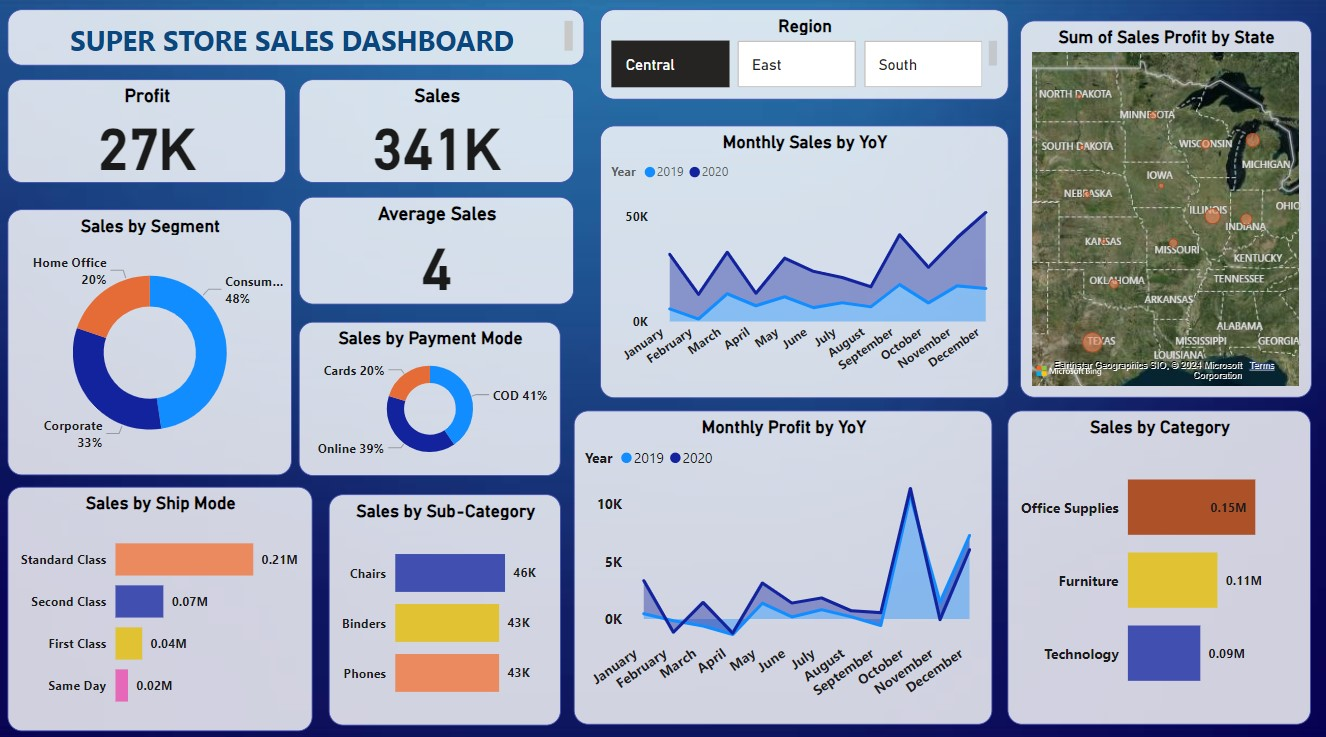

The dashboard page shown, as its layout file describes it:
{"tool":"powerbi","page":{"name":"Page 1","canvas":[1280,720],"ordinal":0},"visuals":[{"type":"clusteredBarChart","title":"Sales by Category","fields":{"Category":["Sheet1.Category"],"Y":["Sum(Sheet1.Sales)"]},"box":[972.9,398.6,292.9,302.9],"z":0},{"type":"clusteredBarChart","title":"Sales by Sub-Category","fields":{"Category":["Sheet1.Sub-Category"],"Y":["Sum(Sheet1.Sales)"]},"box":[317.1,478.6,224.3,222.9],"z":1000},{"type":"clusteredBarChart","title":"Sales by Ship Mode","fields":{"Y":["Sum(Sheet1.Sales)"],"Category":["Sheet1.Ship Mode"]},"box":[7.1,471.4,294.3,235.7],"z":2000},{"type":"stackedAreaChart","title":" Monthly Sales by YoY","fields":{"Y":["Sum(Sheet1.Sales)"],"Category":["Sheet1.Order Date.Variation.Date Hierarchy.Month","Sheet1.Order Date.Variation.Date Hierarchy.Day"],"Series":["Sheet1.Order Date.Variation.Date Hierarchy.Year"]},"box":[578.6,122.9,394.3,262.9],"z":3000},{"type":"stackedAreaChart","title":"Monthly Profit by YoY","fields":{"Category":["Sheet1.Order Date.Variation.Date Hierarchy.Month","Sheet1.Order Date.Variation.Date Hierarchy.Day"],"Series":["Sheet1.Order Date.Variation.Date Hierarchy.Year"],"Y":["Sum(Sheet1.Profit)"]},"box":[554.3,398.6,404.3,302.9],"z":4000},{"type":"map","title":"Sum of Sales  Profit by State","fields":{"Category":["Sheet1.State"],"Size":["Sum(Sheet1.Sales)"]},"box":[984.3,21.4,281.4,364.3],"z":5000},{"type":"donutChart","title":" Sales by Segment","fields":{"Category":["Sheet1.Segment"],"Y":["Sum(Sheet1.Sales)"]},"box":[7.1,204.3,274.3,257.1],"z":6000},{"type":"donutChart","title":" Sales by Payment Mode","fields":{"Y":["Sum(Sheet1.Sales)"],"Category":["Sheet1.Payment Mode"]},"box":[288.6,312.9,252.9,148.6],"z":7000},{"type":"advancedSlicerVisual","fields":{"Values":["Sheet1.Region"]},"box":[578.6,11.4,394.3,87.1],"z":8000},{"type":"textbox","box":[7.1,11.4,557.1,54.3],"z":9000},{"type":"card","title":"Profit","fields":{"Values":["Sum(Sheet1.Profit)"]},"box":[7.1,78.6,268.6,100],"z":10000},{"type":"card","title":"Sales","fields":{"Values":["Sum(Sheet1.Sales)"]},"box":[288.6,78.6,265.7,100],"z":11000},{"type":"card","title":"Average Sales","fields":{"Values":["Avg(Sheet1.AvgDelivery)"]},"box":[288.6,191.4,265.7,104.3],"z":12000}]}

Visuals, with their boxes in screenshot pixels (x1, y1, x2, y2), scaled from the page's 1280x720 canvas onto the 1326x737 screenshot:
"Sales by Category" clusteredBarChart: bbox=[1008, 408, 1311, 718]
"Sales by Sub-Category" clusteredBarChart: bbox=[328, 490, 561, 718]
"Sales by Ship Mode" clusteredBarChart: bbox=[7, 483, 312, 724]
" Monthly Sales by YoY" stackedAreaChart: bbox=[599, 126, 1008, 395]
"Monthly Profit by YoY" stackedAreaChart: bbox=[574, 408, 993, 718]
"Sum of Sales  Profit by State" map: bbox=[1020, 22, 1311, 395]
" Sales by Segment" donutChart: bbox=[7, 209, 292, 472]
" Sales by Payment Mode" donutChart: bbox=[299, 320, 561, 472]
advancedSlicerVisual - Sheet1.Region: bbox=[599, 12, 1008, 101]
textbox: bbox=[7, 12, 584, 67]
"Profit" card: bbox=[7, 80, 286, 183]
"Sales" card: bbox=[299, 80, 574, 183]
"Average Sales" card: bbox=[299, 196, 574, 303]
